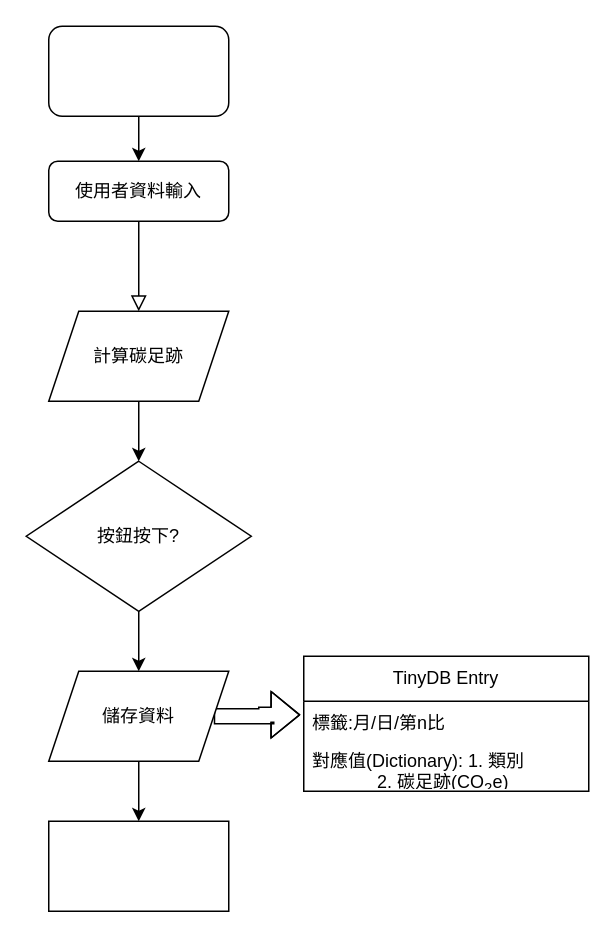
This 615x938 diagram has some shape labels left out. Each missing label, with the centre of its shape:
n = n + 1: point (138, 865)
初始變數n: point (138, 70)
